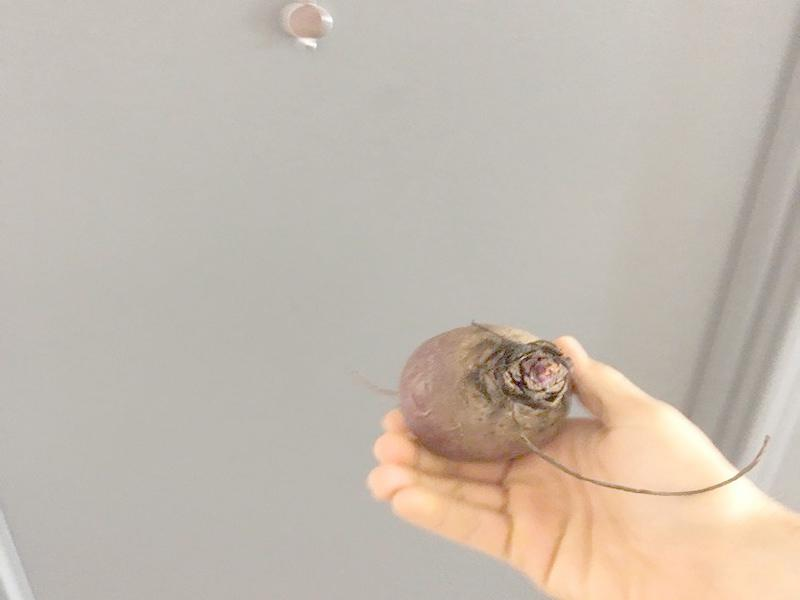Beet: (354, 324, 768, 497)
